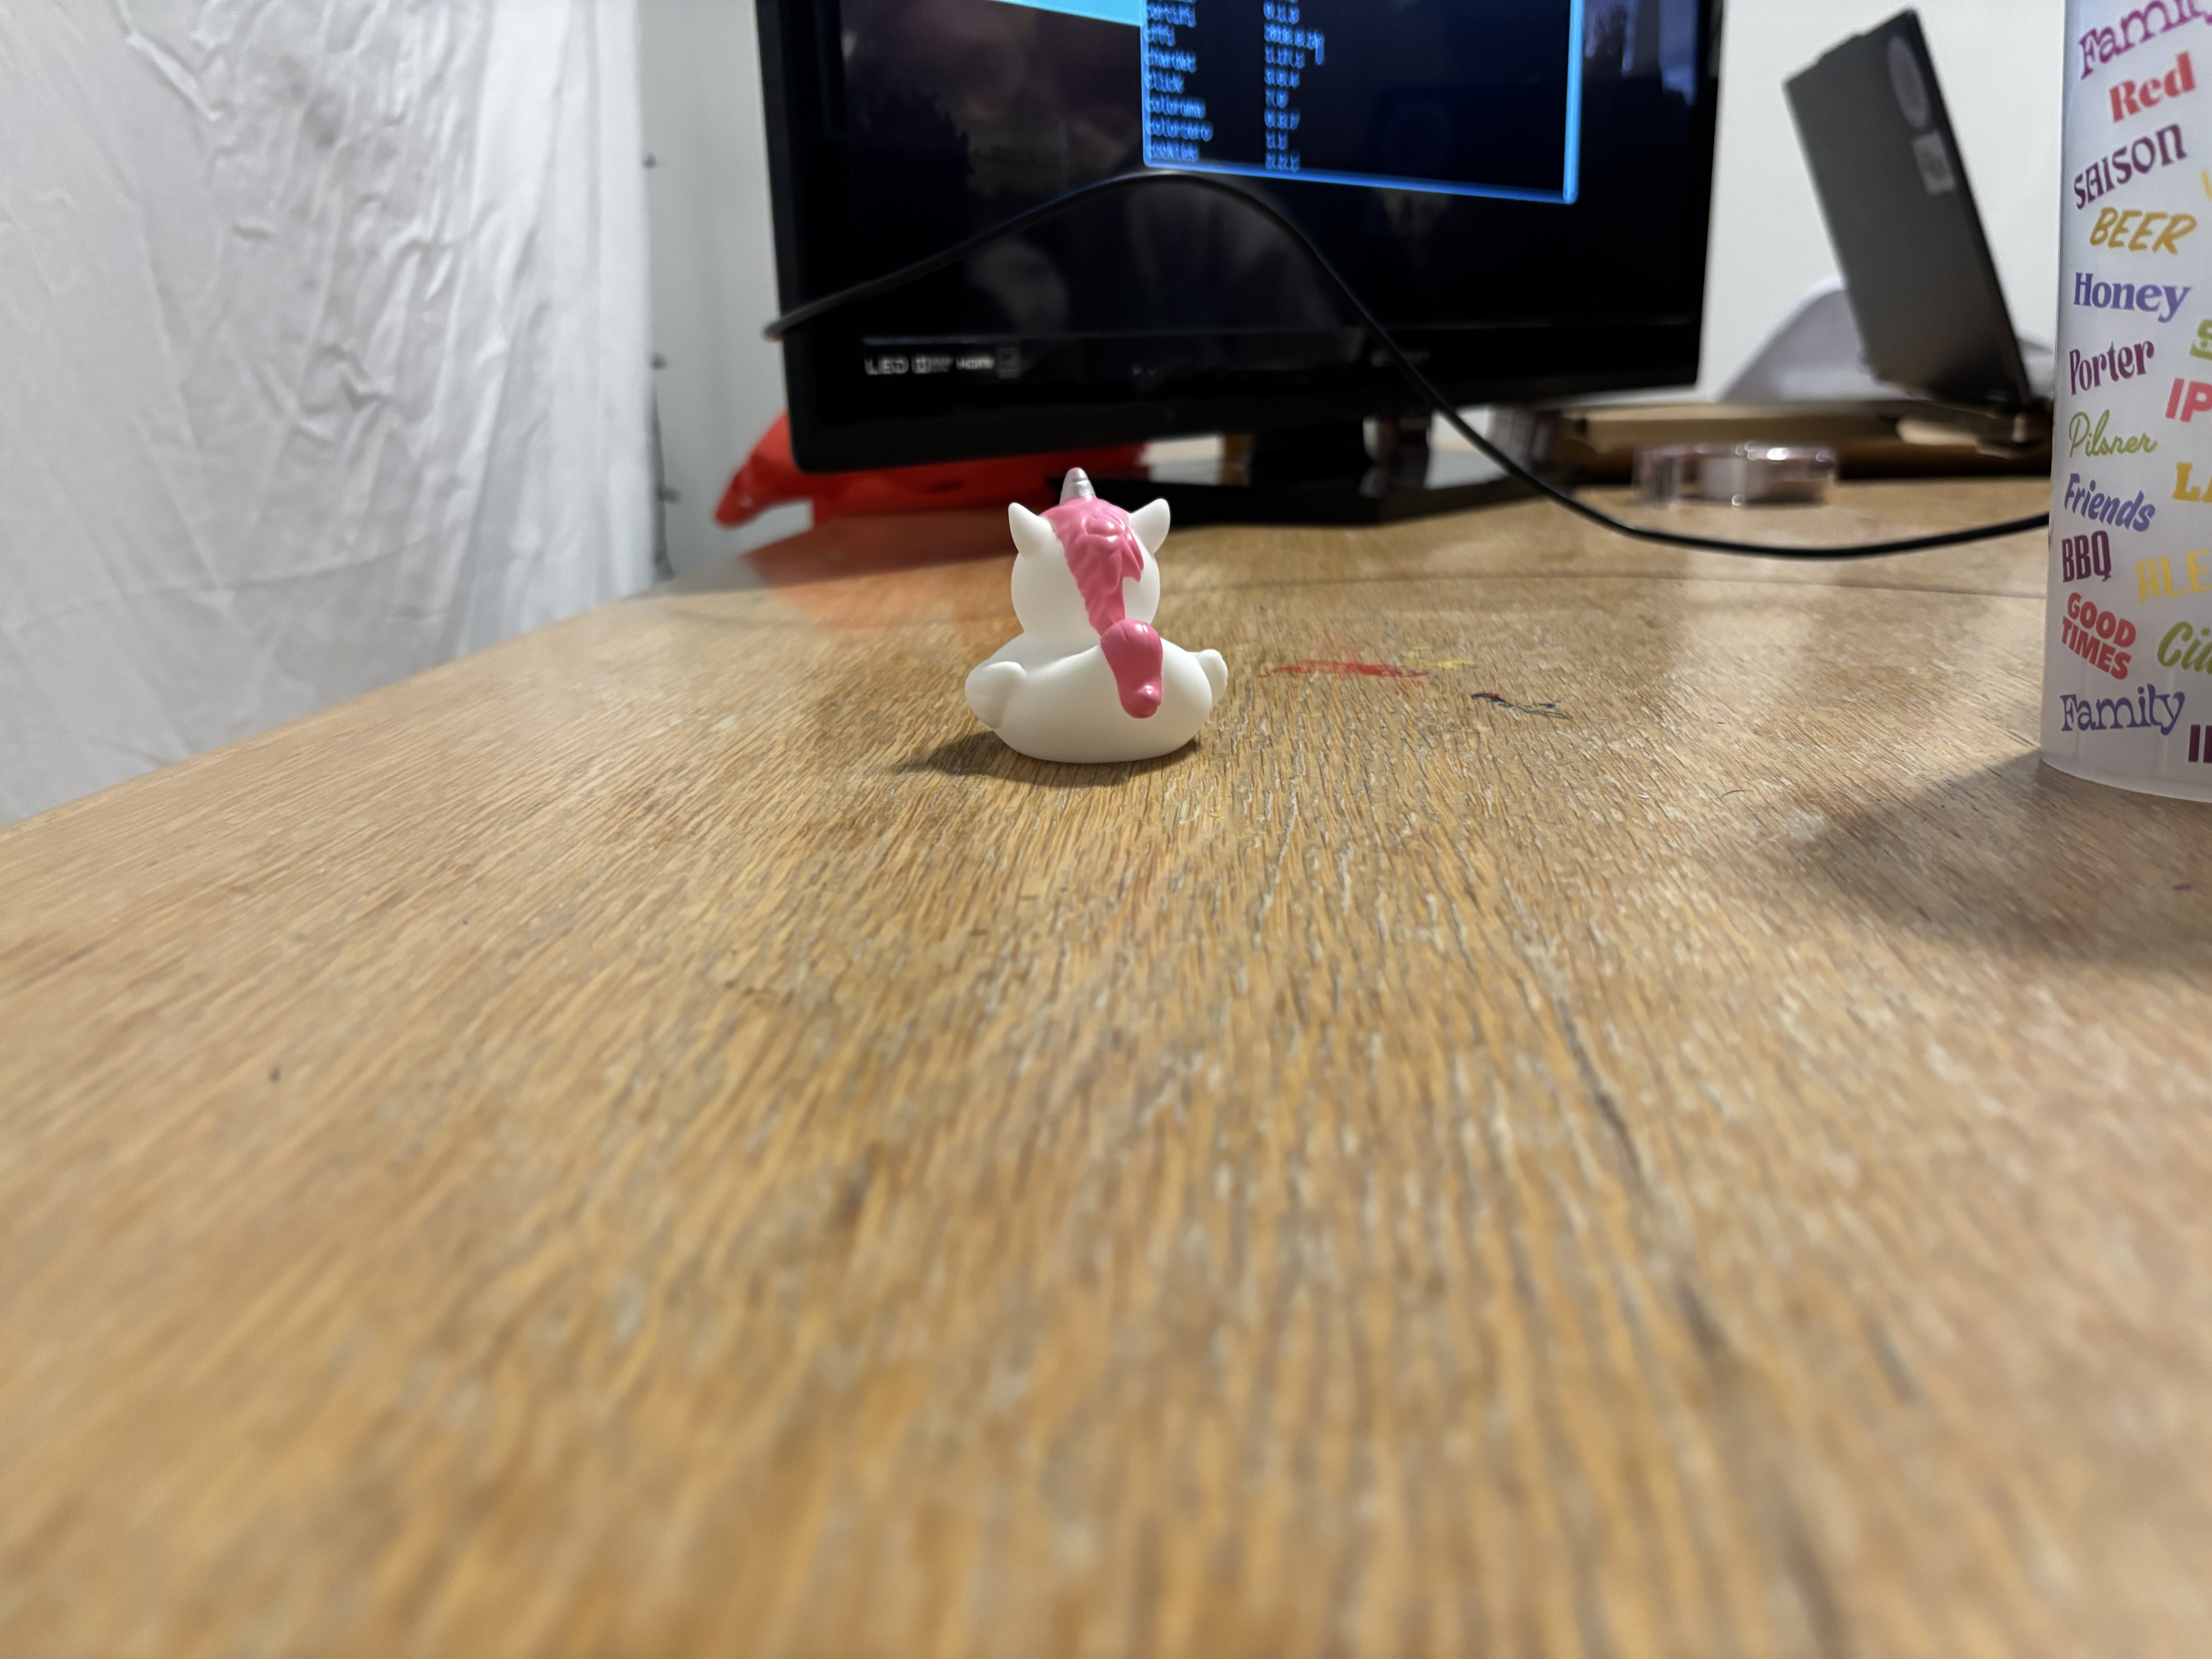Ducks (Specialty): (968, 457, 1235, 756)
